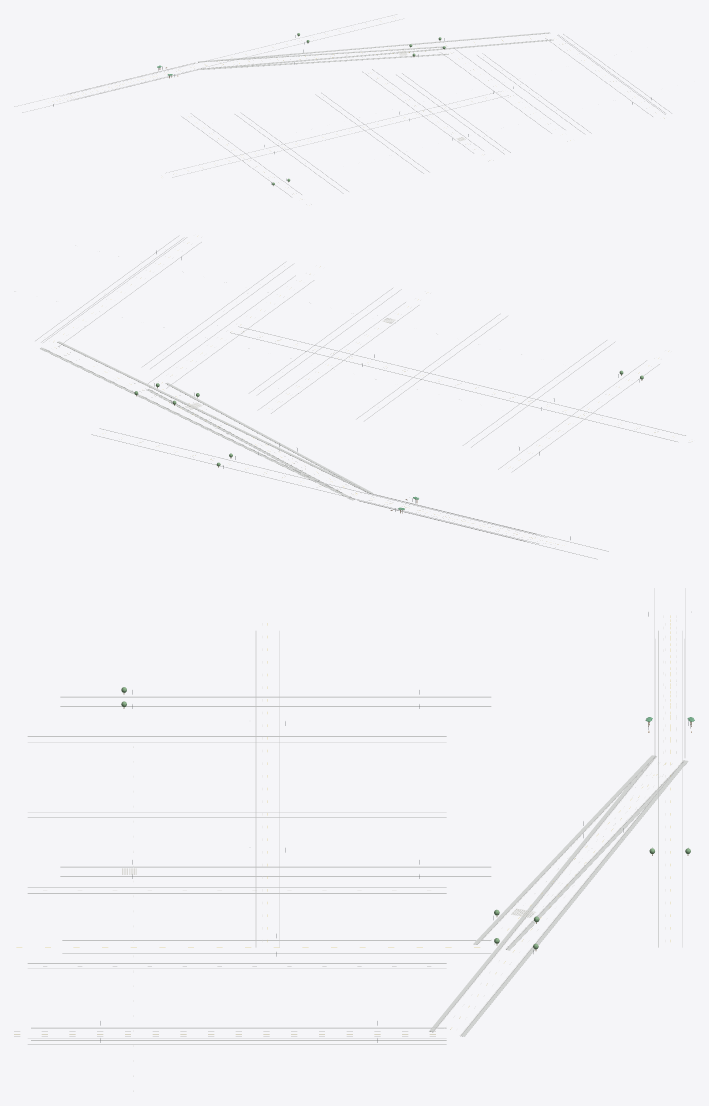
File: detail-sector-se.glb
3 views of the same model, one above another, from view 1: azimuth 30°, elevation 25°; view 2: azimuth 150°, elevation 25°; view 3: azimuth 270°, elevation 25° (orthographic). The views are drawn at different scales.
Parts seen in each view (by area): view 1: curb, trim_light, road_white; view 2: curb, trim_light, road_white; view 3: curb, trim_light, road_white.
Boxes of the visible parts, box(x1,y1,x2,y2) form: curb: box(14, 14, 671, 197); trim_light: box(54, 32, 651, 182); road_white: box(94, 34, 567, 204); curb: box(35, 235, 685, 559); trim_light: box(40, 315, 638, 547); road_white: box(14, 237, 671, 543); curb: box(27, 588, 685, 1044); trim_light: box(100, 611, 691, 1036); road_white: box(14, 615, 682, 1091).
Bounding box in the file's own units: 1333 × 9.06 × 762.
